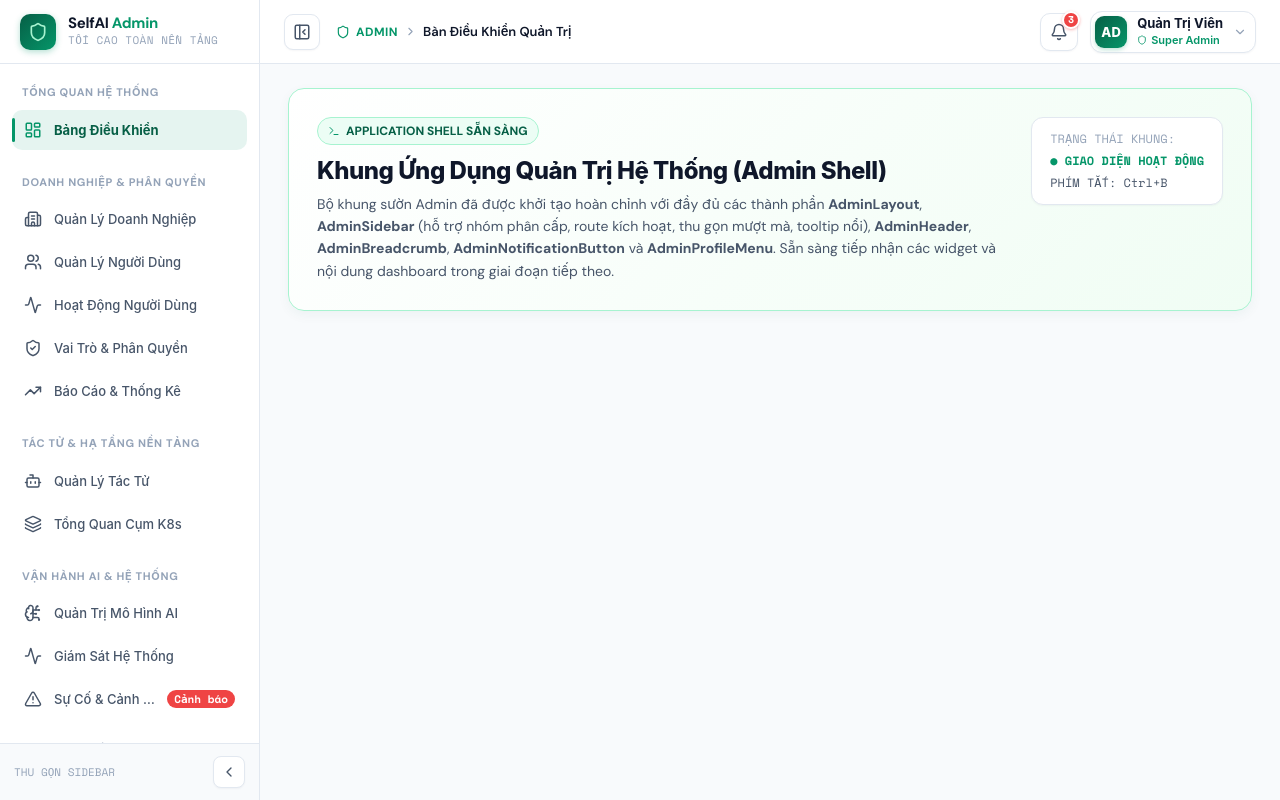
Test: Admin Application Shell Suite › AdminLayout Component › toggles sidebar collapsed state via desktop header button
This screenshot has width=1280, height=800.
Click to collapse
Click the button named "Thu gọn thanh điều hướng" at (302, 32), box 284,14 -> 320,50
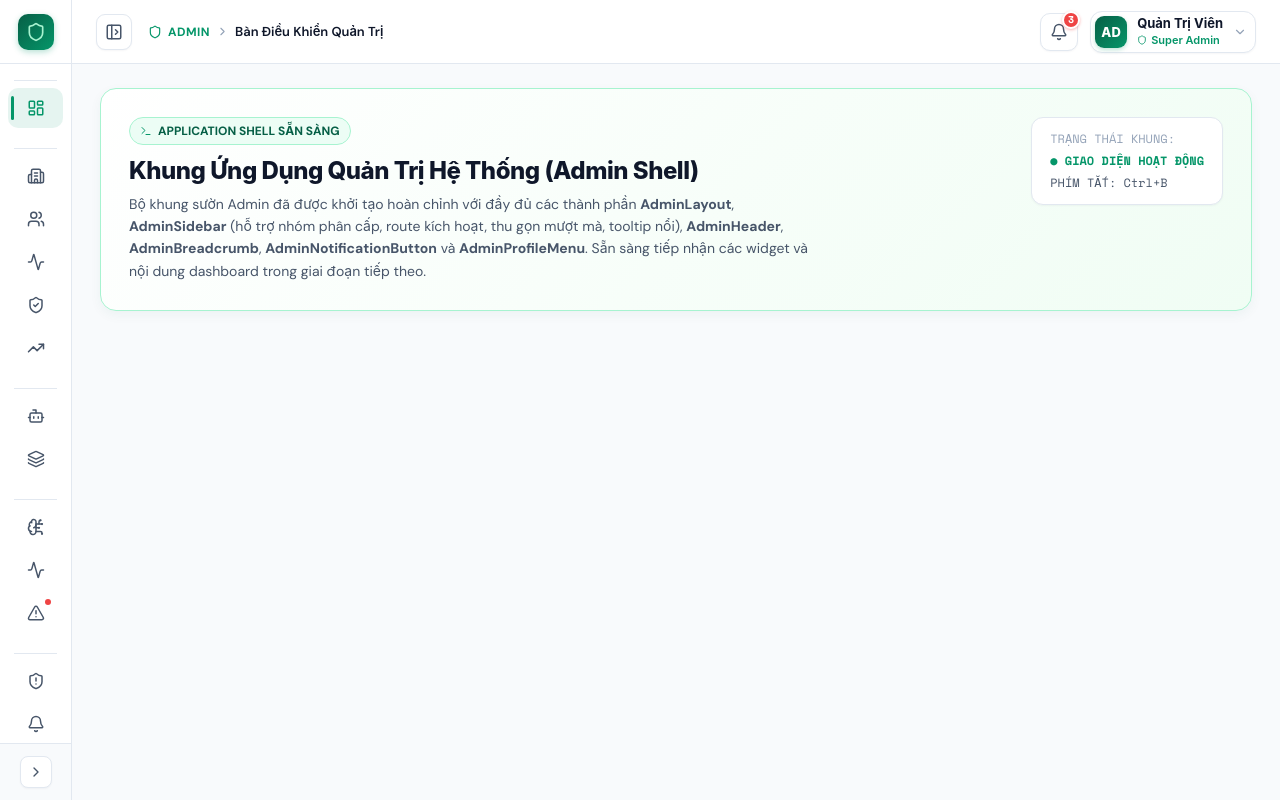
Expected: the button named "Mở rộng thanh điều hướng" is shown, 96,14 -> 132,50
